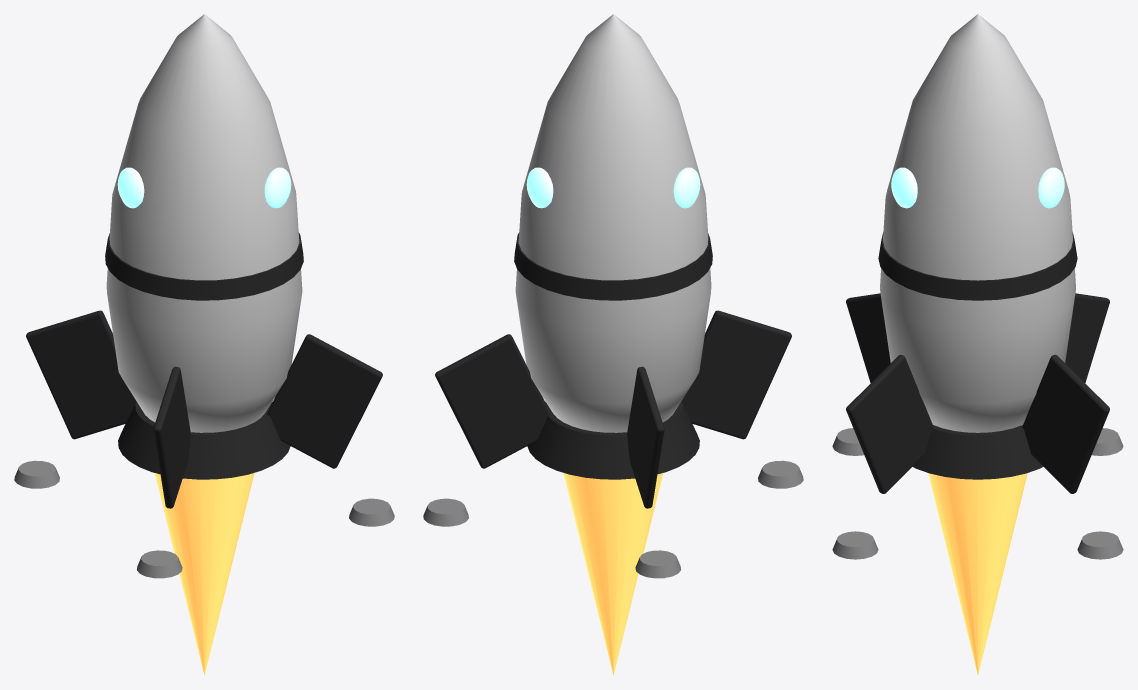
File: ship.glb
3 renders of one model, left to right at view 1: azimuth 30°, elevation 25°; view 2: azimuth 150°, elevation 25°; view 3: azimuth 270°, elevation 25°, orthographic.
Parts seen in each view (by area): view 1: ship, leg0, leg2, flame, leg3, lights; view 2: ship, leg1, leg3, flame, leg2, lights; view 3: ship, flame, leg0, leg1, leg2, leg3, lights.
Part boxes in pixels (x1,y1,x2,y2): ship: (105,14,303,479); leg0: (266,334,394,526); leg2: (14,310,136,488); flame: (155,473,254,675); leg3: (137,366,190,578); lights: (117,167,291,208); ship: (514,14,712,479); leg1: (423,334,551,526); leg3: (681,310,803,488); flame: (563,473,662,675); leg2: (627,366,680,578); lights: (526,167,700,208); ship: (878,14,1077,479); flame: (928,473,1027,674); leg0: (832,354,933,559); leg1: (1022,354,1123,559); leg2: (1065,293,1123,455); leg3: (832,293,890,455); lights: (891,167,1064,208).
Size of the model in its own units: 1.01 by 2.53 by 1.01.
